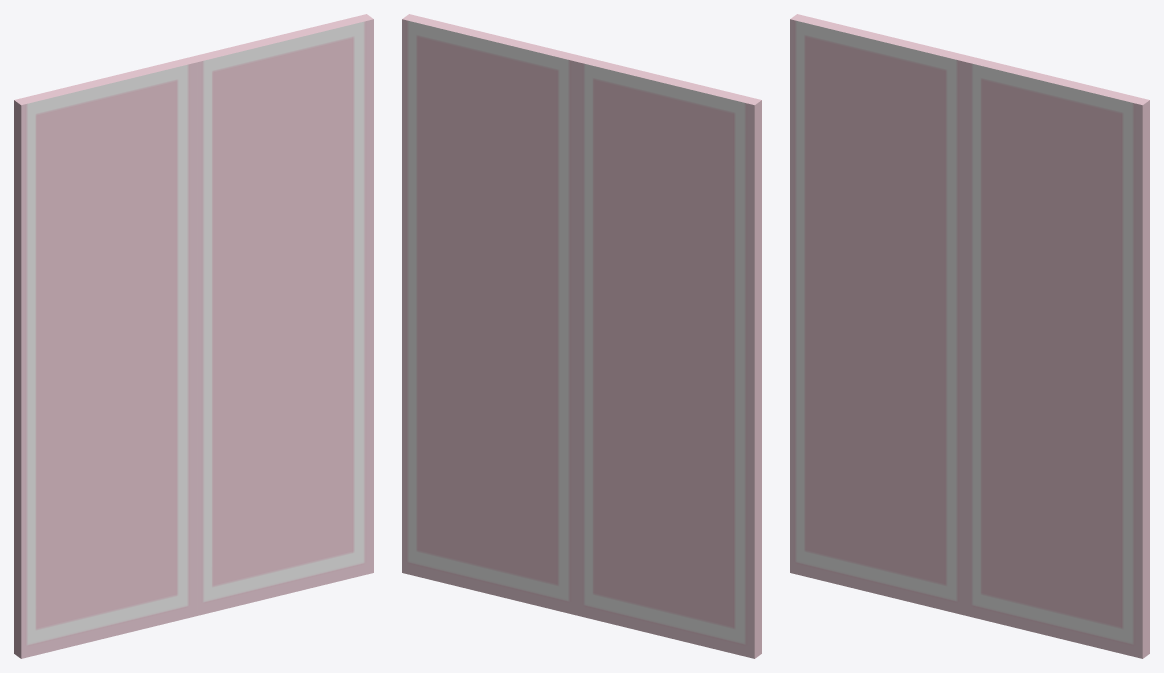
File: Wall_Pink_2-2M.fbx
The picture shows the model from 3 angles, left to right: view 1: azimuth 30°, elevation 25°; view 2: azimuth 150°, elevation 25°; view 3: azimuth 330°, elevation 25°; orthographic projection.
Parts seen in each view (by area): view 1: Wall_Pink_2-2M; view 2: Wall_Pink_2-2M; view 3: Wall_Pink_2-2M.
Part boxes in pixels (left/top/right/bottom): Wall_Pink_2-2M: left=14, top=14, right=373, bottom=658; Wall_Pink_2-2M: left=402, top=14, right=761, bottom=658; Wall_Pink_2-2M: left=790, top=14, right=1149, bottom=658.
Size of the model in its own units: 200 by 300 by 7.
